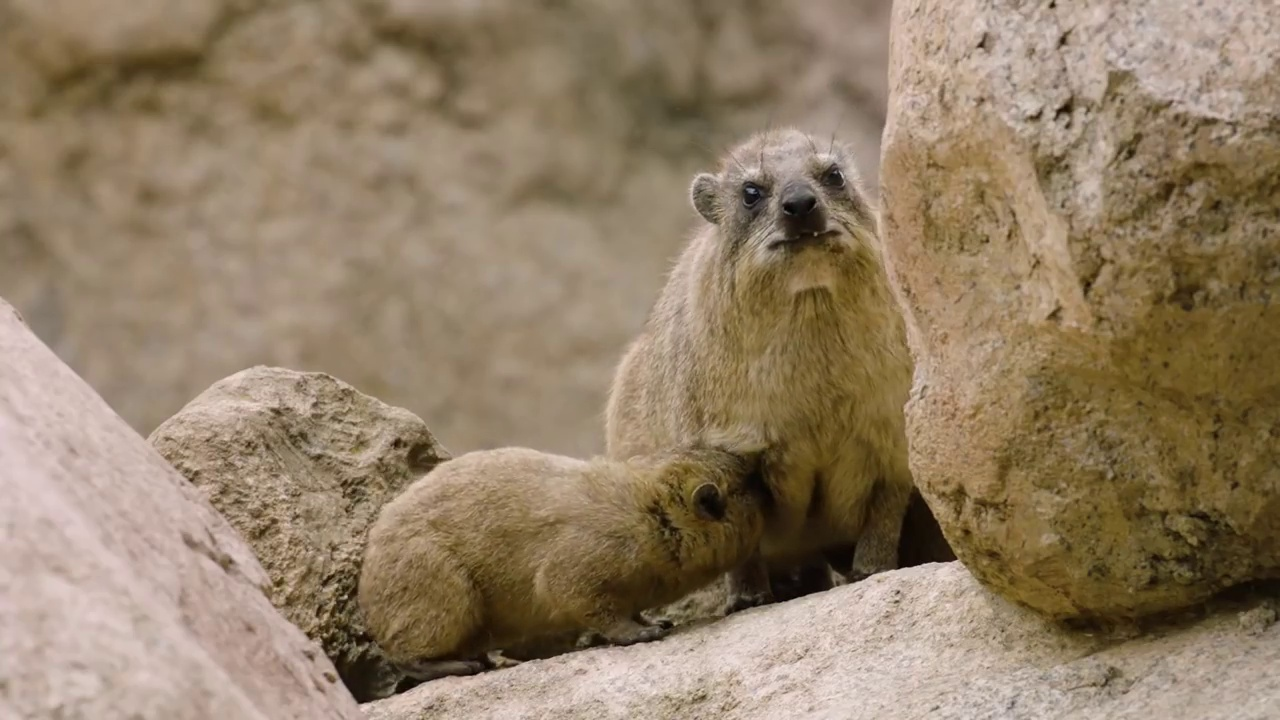Rock Hyrex: (601, 128, 916, 613), (363, 445, 770, 669)
